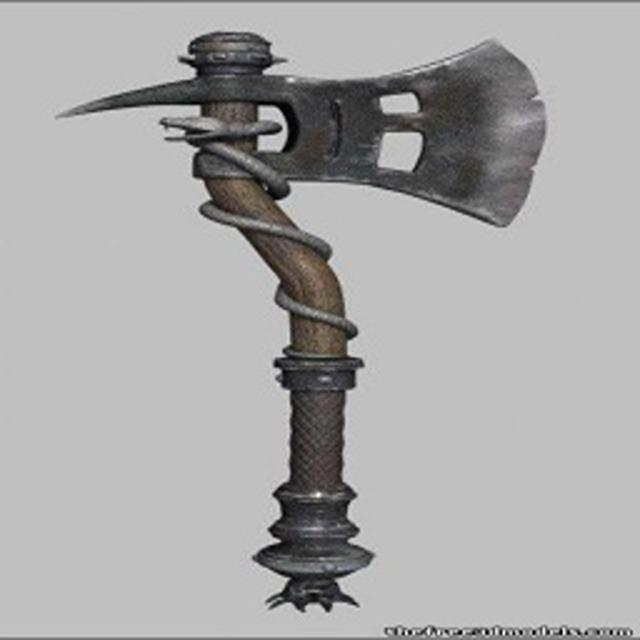ax: (45, 18, 560, 620)
